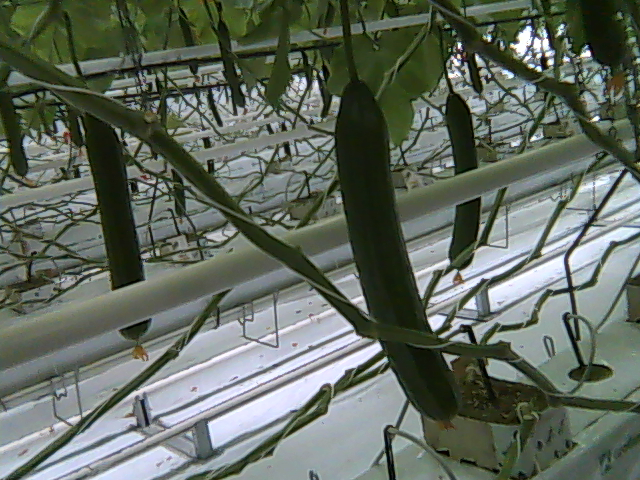concombre: (330, 71, 465, 433)
